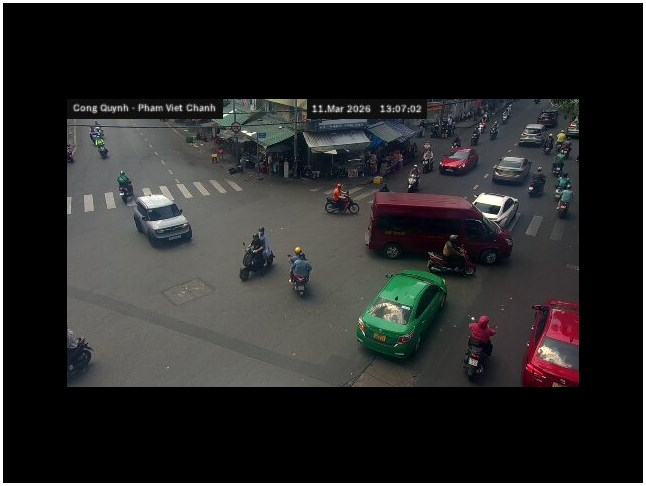car: (356, 268, 447, 359), (521, 297, 579, 385), (132, 193, 192, 243), (472, 192, 520, 229), (492, 156, 532, 185), (439, 148, 479, 176), (519, 123, 545, 144), (528, 169, 546, 198)
motorbike: (426, 239, 476, 275), (240, 243, 276, 280), (464, 341, 493, 381), (288, 258, 313, 297)
truck: (365, 189, 512, 262)
